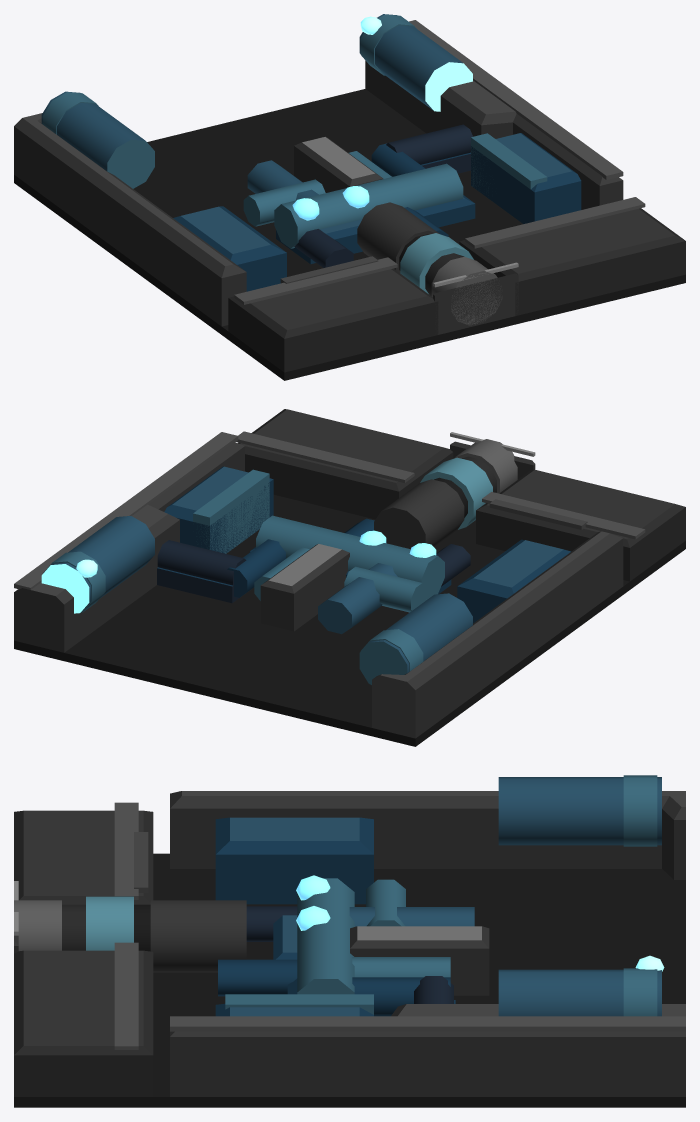
Rendered from newshf-81.glb.
The picture shows the model from 3 angles, top to bottom: view 1: azimuth 30°, elevation 25°; view 2: azimuth 150°, elevation 25°; view 3: azimuth 270°, elevation 25°; orthographic projection. The views are drawn at different scales.
Visible parts, largest first — view 1: newshf-81; view 2: newshf-81; view 3: newshf-81.
Part boxes in pixels (bbox=[...]): newshf-81: bbox=[14, 14, 685, 380]; newshf-81: bbox=[14, 409, 685, 746]; newshf-81: bbox=[14, 775, 685, 1107].
Bounding box in the file's own units: 2 × 0.437 × 2.33.
